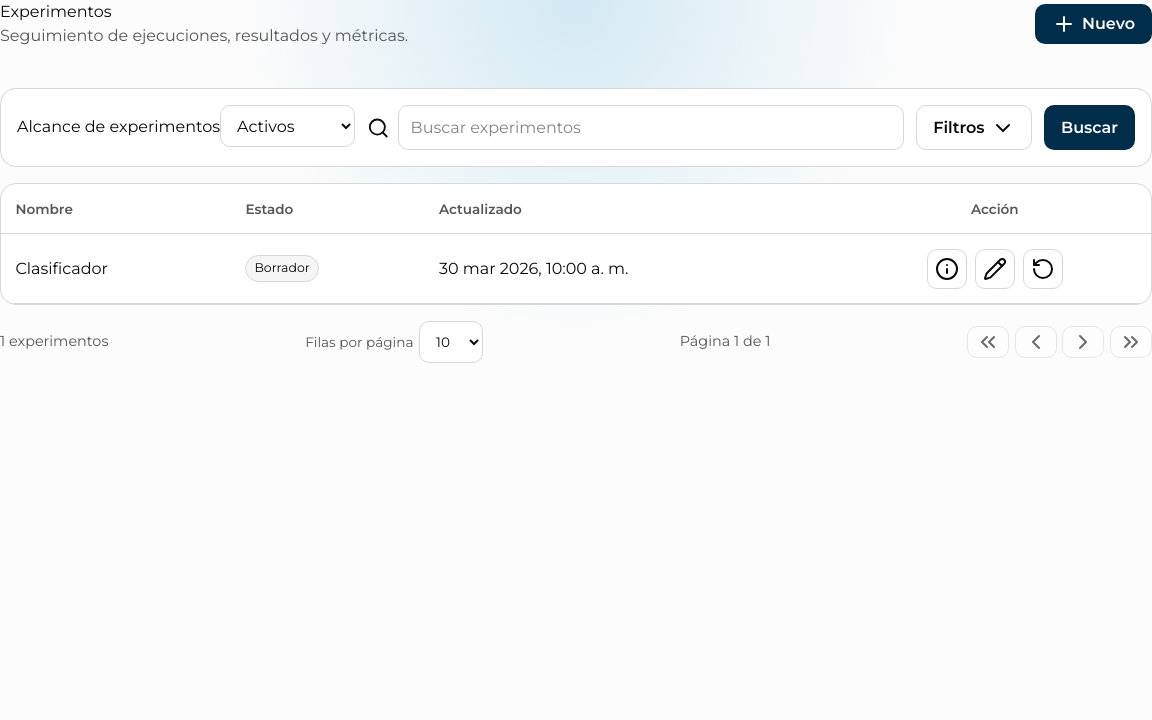
Test: ExperimentsPage › excludes archive for running experiments and hides lifecycle controls for archived detail
Click the button named "Ver detalle" at [947, 269], box [927,249,967,289]
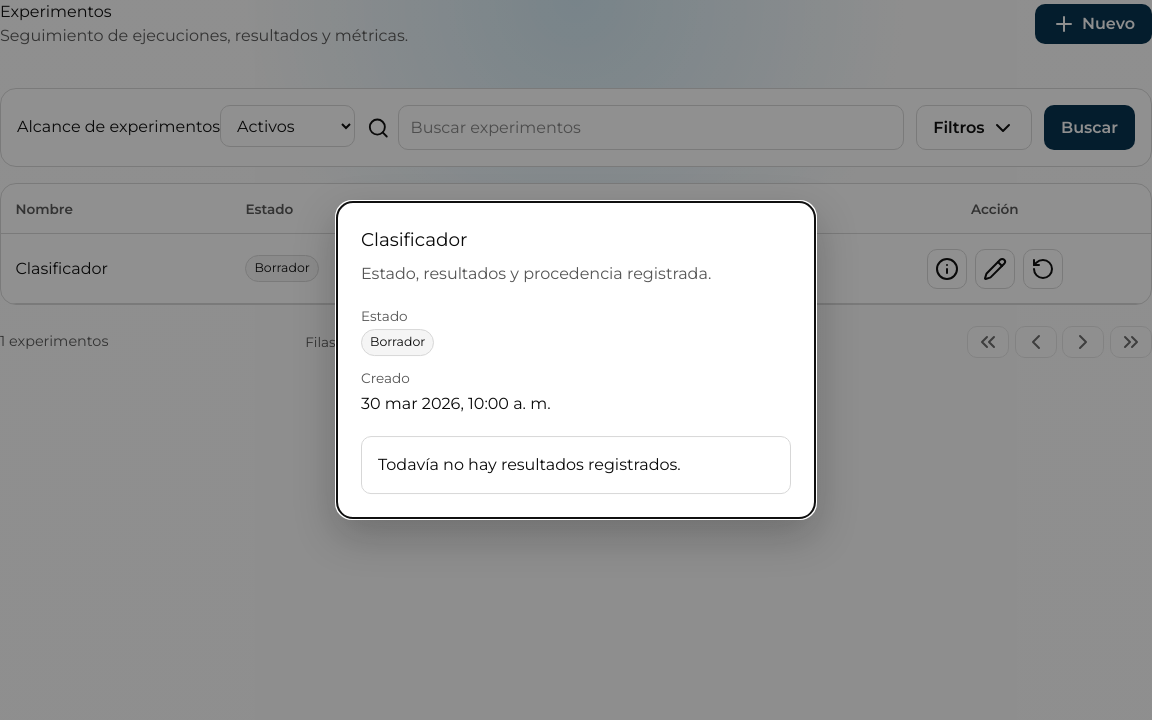
Check: the text "Todavía no hay resultados registrados." is shown, box [361,436,791,494]
